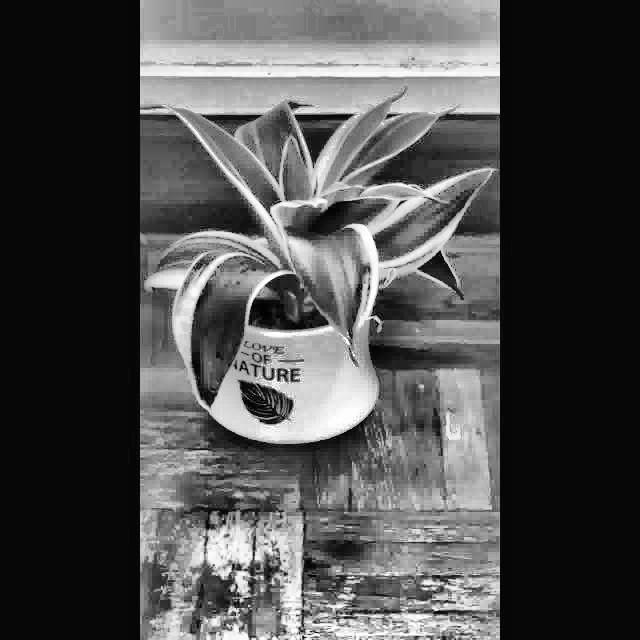plants: (140, 82, 500, 456)
